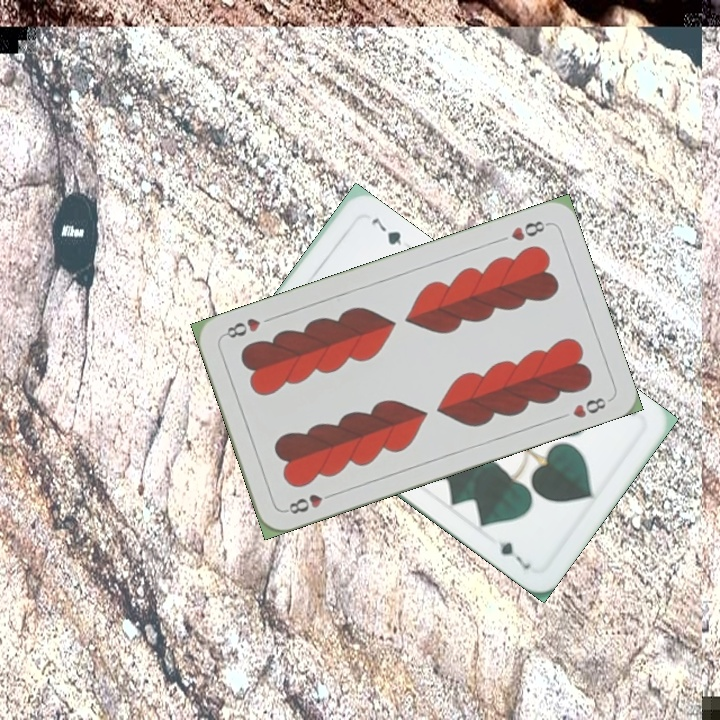H8: (281, 488, 338, 517), (507, 216, 552, 244)
